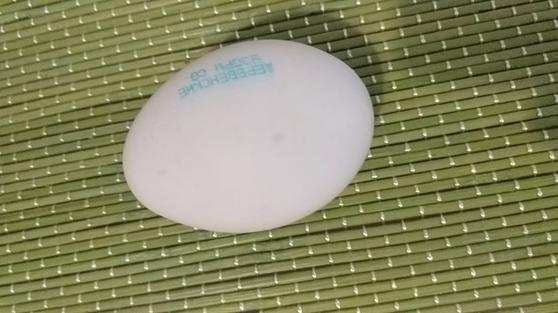egg: (121, 37, 377, 233)
